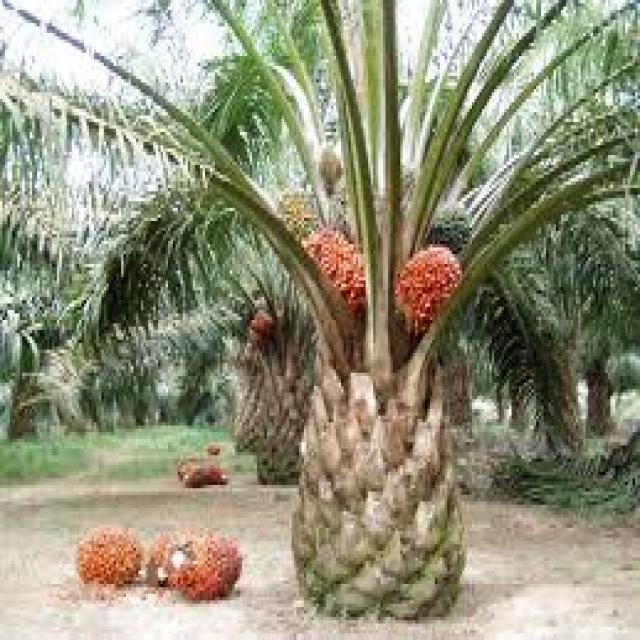FFB: (156, 530, 249, 598), (302, 228, 368, 318), (399, 249, 462, 330), (77, 527, 143, 593)
